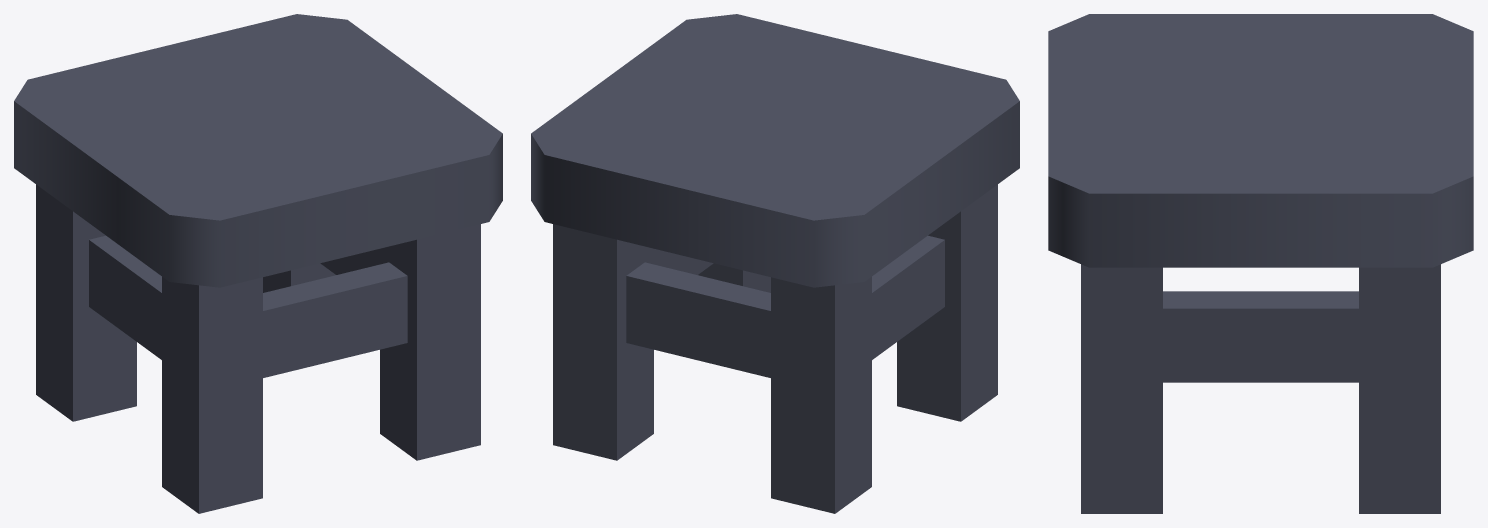
Rendered from stall-stool.glb.
3 views of the same model, side by side, from view 1: azimuth 30°, elevation 25°; view 2: azimuth 150°, elevation 25°; view 3: azimuth 270°, elevation 25° (orthographic). The views are drawn at different scales.
Visible parts, largest first — view 1: stall-stool; view 2: stall-stool; view 3: stall-stool.
Boxes of the visible parts, bbox=[...] form: stall-stool: bbox=[14, 14, 502, 513]; stall-stool: bbox=[531, 14, 1019, 513]; stall-stool: bbox=[1048, 14, 1473, 513].
Bounding box in the file's own units: 0.26 × 0.2255 × 0.26.
Materials: 1 (1 with a texture image).
